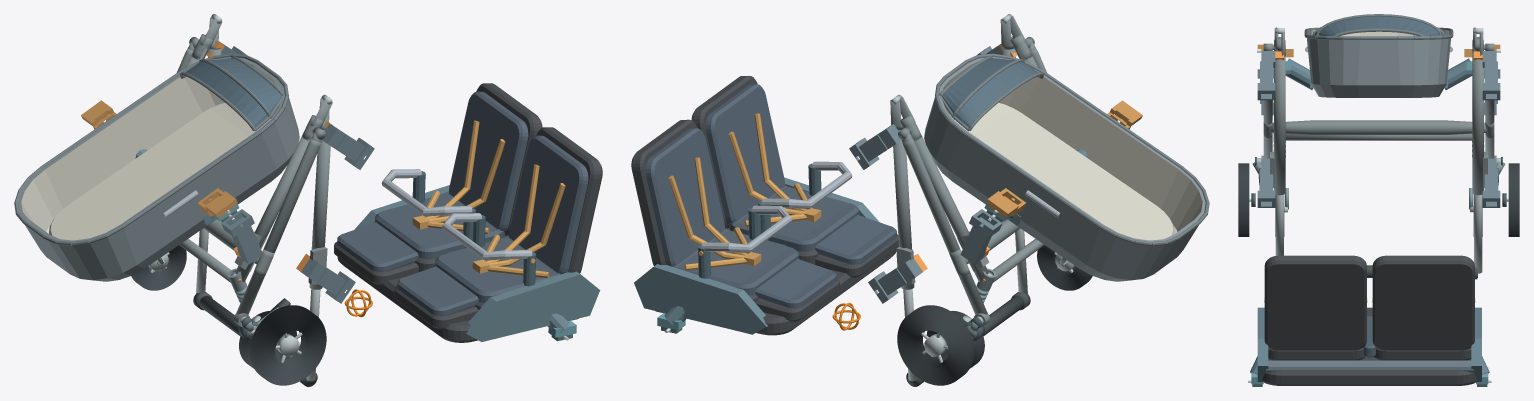
Rendered from D24_w650_state3_wheel_S.glb.
The picture shows the model from 3 angles, left to right: view 1: azimuth 30°, elevation 25°; view 2: azimuth 150°, elevation 25°; view 3: azimuth 270°, elevation 25°; orthographic projection. The views are drawn at different scales.
Parts seen in each view (by area): view 1: D24_Upper, D24_Lower, RL_tire.011, V46_rear_leg_-1.011, main_lower_-1.012, main_upper_-1.012, Universal_Cabin_Receiver_L_-1, FR_tire.011, Universal_Cabin_Receiver_H_-1, Universal_Cabin_Receiver_M_-1, D02_WideAdapter_L_-1, round_handle.013 (+4 smaller); view 2: D24_Upper, D24_Lower, RR_tire.011, V46_rear_leg_1.011, main_lower_1.012, main_upper_1.012, Universal_Cabin_Receiver_L_1, FL_tire.011, Universal_Cabin_Receiver_H_1, Universal_Cabin_Receiver_M_1, D02_WideAdapter_L_1, round_handle.013 (+5 smaller); view 3: D24_Upper, D24_Lower, V46_rearbar.011, main_upper_1.012, main_upper_-1.012, front_fixed_round_tube.011, D24_Lower_Mount_L, RL_tire.011, RR_tire.011, Universal_Cabin_Receiver_M_-1, Universal_Cabin_Receiver_M_1, Universal_Cabin_Receiver_H_1 (+6 smaller).
Boxes of the visible parts, x1=… form: D24_Upper: x1=334, y1=83, x2=602, y2=342; D24_Lower: x1=14, y1=53, x2=299, y2=281; RL_tire.011: x1=249, y1=305, x2=326, y2=385; V46_rear_leg_-1.011: x1=236, y1=138, x2=321, y2=314; main_lower_-1.012: x1=235, y1=135, x2=312, y2=282; main_upper_-1.012: x1=309, y1=130, x2=330, y2=289; Universal_Cabin_Receiver_L_-1: x1=221, y1=209, x2=263, y2=264; FR_tire.011: x1=131, y1=245, x2=186, y2=290; Universal_Cabin_Receiver_H_-1: x1=301, y1=259, x2=355, y2=303; Universal_Cabin_Receiver_M_-1: x1=322, y1=124, x2=374, y2=169; D02_WideAdapter_L_-1: x1=197, y1=188, x2=237, y2=217; round_handle.013: x1=199, y1=296, x2=316, y2=385; D24_Upper: x1=631, y1=75, x2=898, y2=335; D24_Lower: x1=924, y1=53, x2=1209, y2=281; RR_tire.011: x1=897, y1=305, x2=973, y2=385; V46_rear_leg_1.011: x1=902, y1=138, x2=987, y2=314; main_lower_1.012: x1=911, y1=135, x2=988, y2=282; main_upper_1.012: x1=893, y1=130, x2=914, y2=289; Universal_Cabin_Receiver_L_1: x1=960, y1=209, x2=1002, y2=264; FL_tire.011: x1=1037, y1=245, x2=1092, y2=290; Universal_Cabin_Receiver_H_1: x1=868, y1=259, x2=922, y2=303; Universal_Cabin_Receiver_M_1: x1=849, y1=124, x2=901, y2=169; D02_WideAdapter_L_1: x1=986, y1=188, x2=1026, y2=217; round_handle.013: x1=907, y1=296, x2=1024, y2=385; D24_Upper: x1=1257, y1=255, x2=1481, y2=385; D24_Lower: x1=1304, y1=14, x2=1453, y2=97; V46_rearbar.011: x1=1270, y1=120, x2=1487, y2=134; main_upper_1.012: x1=1472, y1=56, x2=1483, y2=195; main_upper_-1.012: x1=1274, y1=56, x2=1285, y2=195; front_fixed_round_tube.011: x1=1285, y1=133, x2=1472, y2=140; D24_Lower_Mount_L: x1=1285, y1=58, x2=1472, y2=89; RL_tire.011: x1=1238, y1=163, x2=1249, y2=236; RR_tire.011: x1=1508, y1=163, x2=1519, y2=236; Universal_Cabin_Receiver_M_-1: x1=1257, y1=51, x2=1275, y2=100; Universal_Cabin_Receiver_M_1: x1=1482, y1=51, x2=1500, y2=100; Universal_Cabin_Receiver_H_1: x1=1482, y1=158, x2=1500, y2=207.
Size of the model in its own units: 1.44 by 0.7826 by 0.766.
